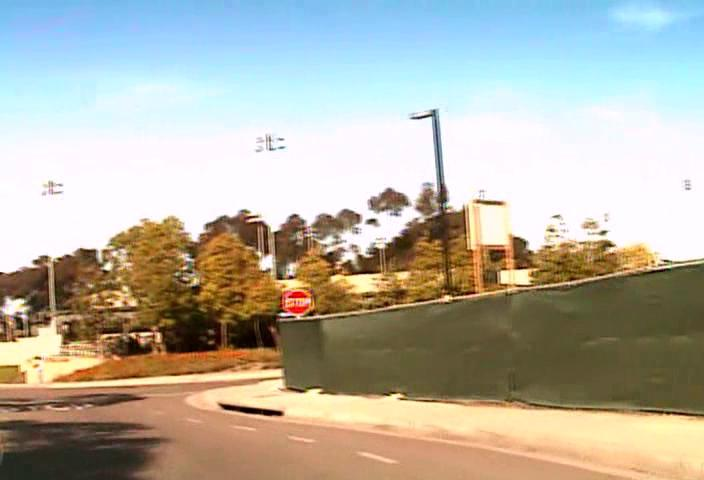stop: (283, 288, 311, 315)
